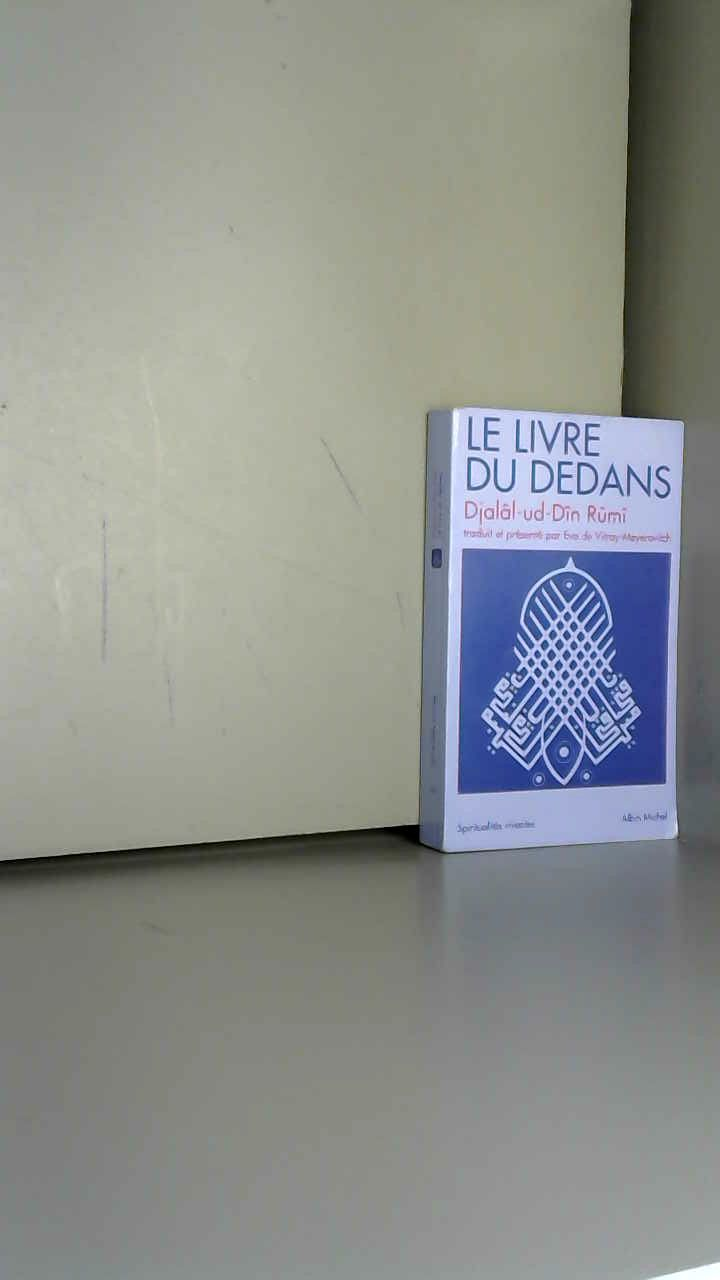book: (390, 380, 716, 889)
